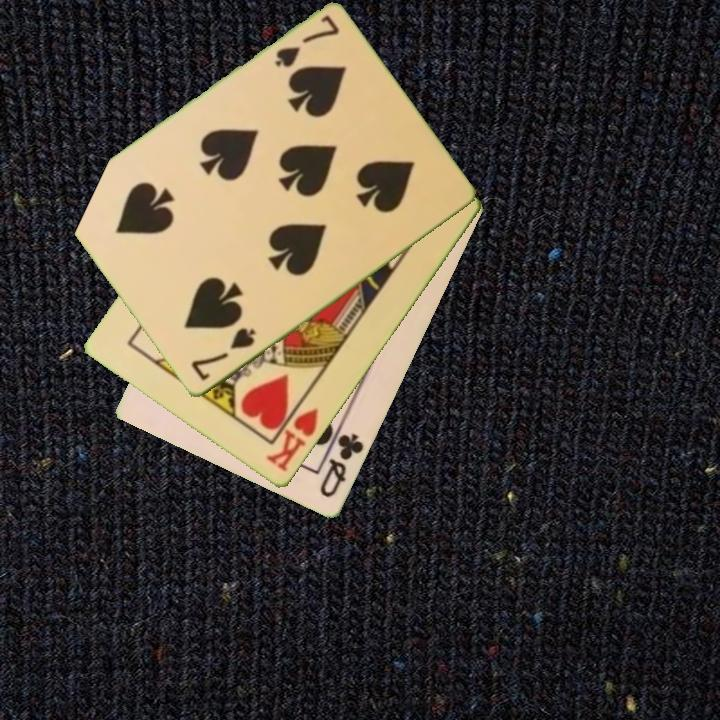7s: (187, 324, 259, 384), (271, 12, 343, 71)
Kh: (262, 394, 322, 476)
Qc: (316, 422, 367, 501)
